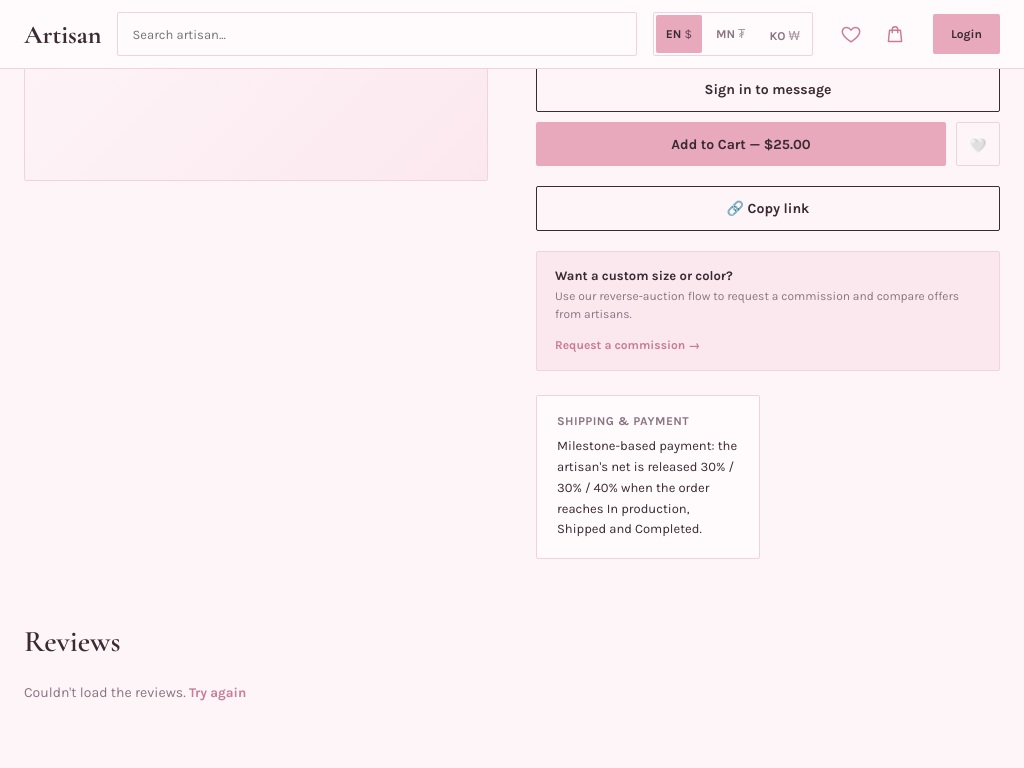
Test: reading reviews › a failed load offers a retry and leaves the product page working
(page scrolled)
Click the button "Try again".
click(218, 692)  # box top-left (189, 680), bottom-right (246, 704)
(page scrolled)
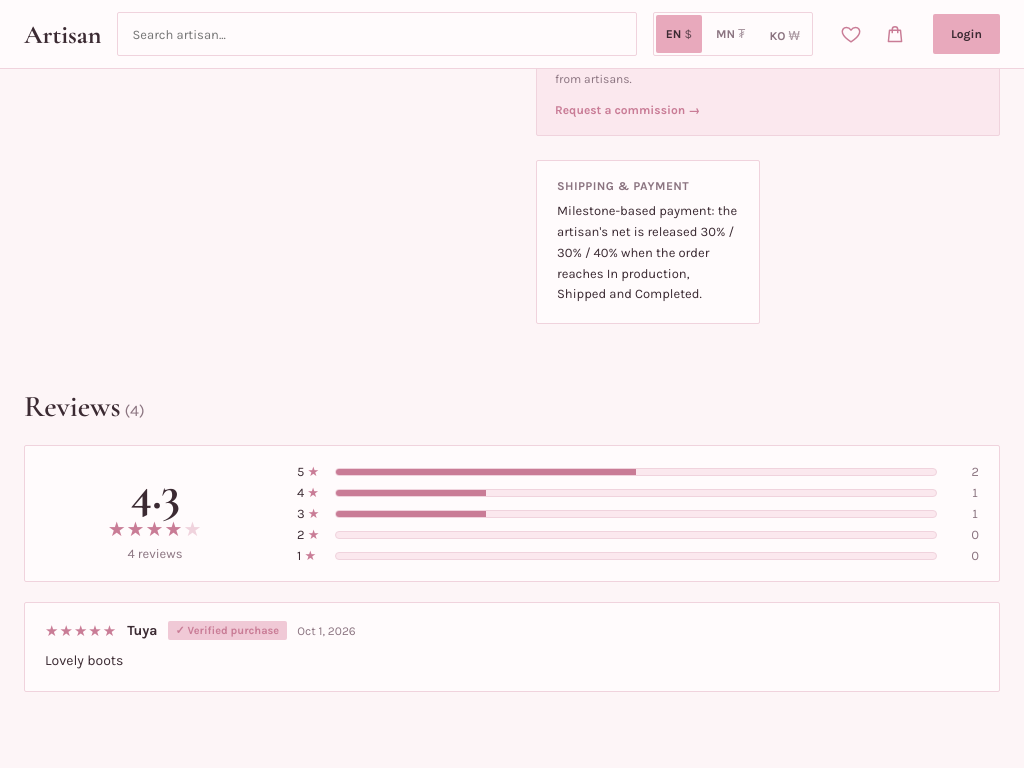
Expected: the text "Lovely boots" is shown, top-left (45, 652), bottom-right (123, 669)
